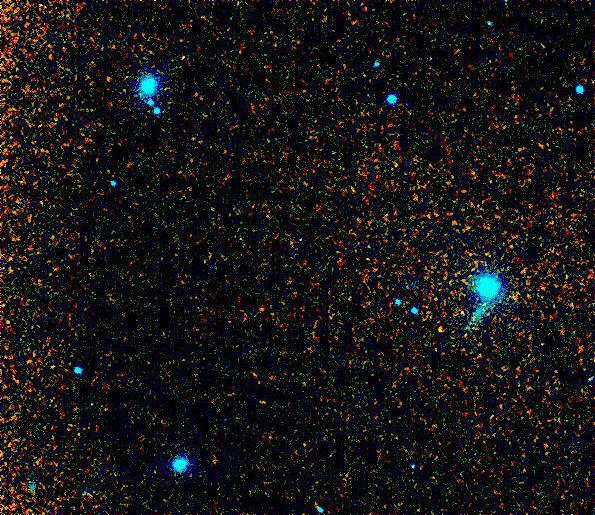star: (426, 314, 456, 344)
